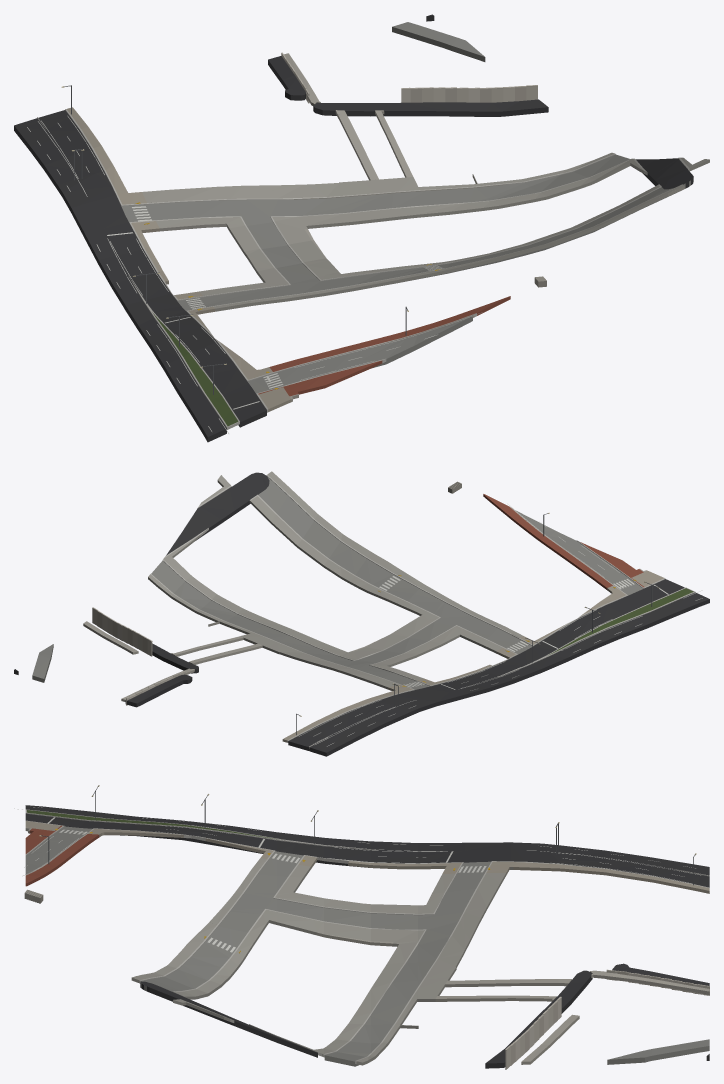
3 views of the same model, one above another, from view 1: azimuth 30°, elevation 25°; view 2: azimuth 150°, elevation 25°; view 3: azimuth 270°, elevation 25° (orthographic). The views are drawn at different scales.
Size of the model in its own units: 138 by 20.58 by 148.
